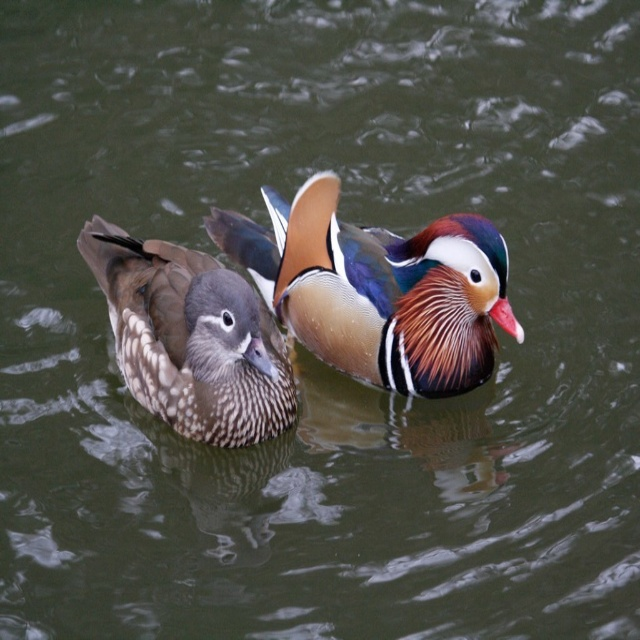Duck: (203, 170, 529, 393), (83, 196, 312, 464)
